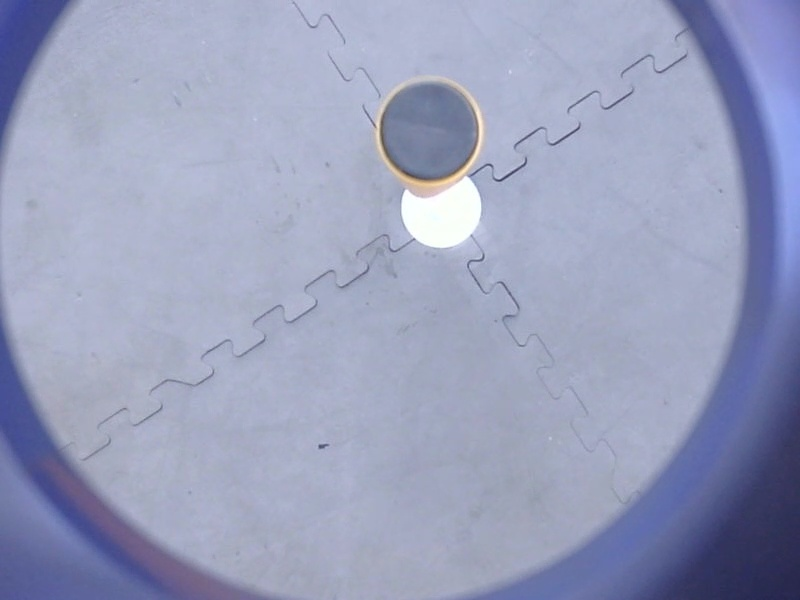tip: (366, 70, 491, 191)
